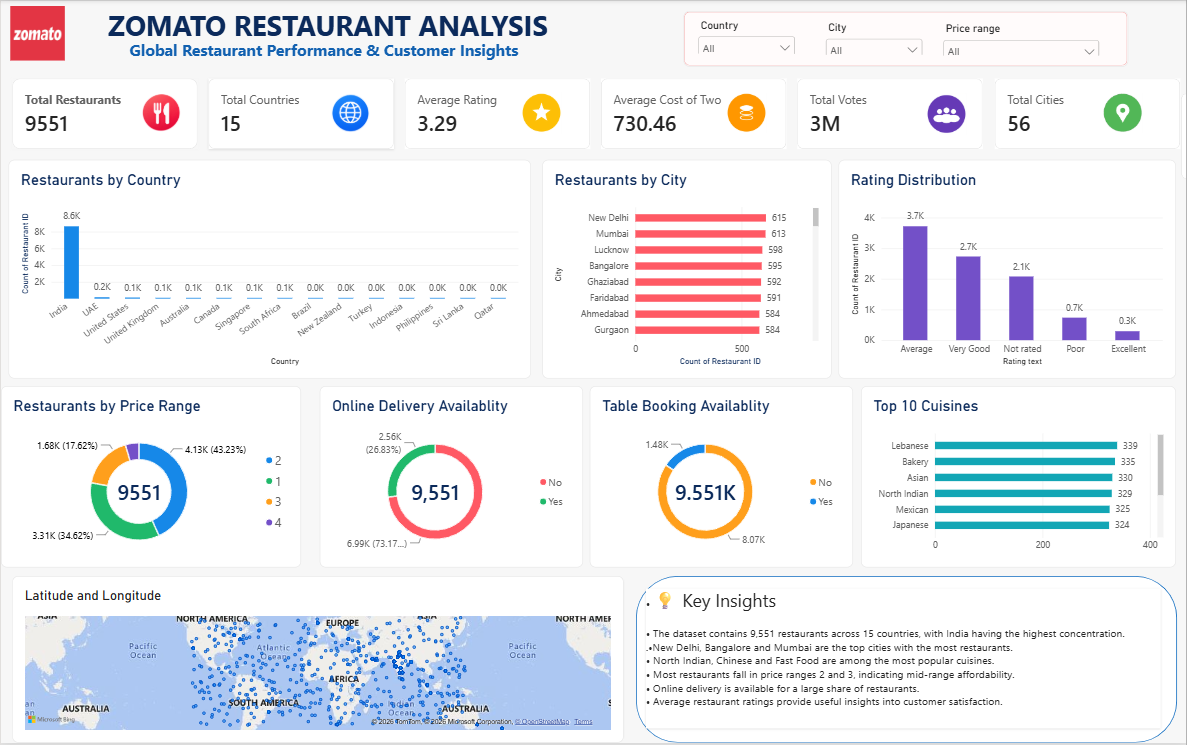

What the dashboard file says about the page in this screenshot:
{"tool":"powerbi","page":{"name":"zomato_restauraunt_analysis","canvas":[1600,1000],"ordinal":0},"visuals":[{"type":"textbox","box":[0,6.7,779.1,64.1],"z":0},{"type":"textbox","box":[10,189.5,1297,150],"z":1},{"type":"textbox","box":[66.8,50.6,892.4,42.5],"z":2},{"type":"cardVisual","fields":{"Data":["Zomato_Data.Total Restaurants"]},"box":[15,105,250,95],"z":3},{"type":"cardVisual","fields":{"Data":["Zomato_Data.Total Countries"]},"box":[280,105,250,95],"z":4},{"type":"cardVisual","fields":{"Data":["Zomato_Data.Average Rating"]},"box":[545,105,250,95],"z":5},{"type":"cardVisual","fields":{"Data":["Zomato_Data.Average Cost of Two"]},"box":[810,105,250,95],"z":6},{"type":"cardVisual","fields":{"Data":["Zomato_Data.Total Votes"]},"box":[1075,105,250,95],"z":7},{"type":"cardVisual","fields":{"Data":["Zomato_Data.Total Cities"]},"box":[1592.6,125.5,218.6,115.3],"z":8},{"type":"clusteredColumnChart","title":"Restaurants by Country","fields":{"Category":["Zomato_Data.Country"],"Y":["CountNonNull(Zomato_Data.Restaurant ID)"]},"box":[10.1,214.2,705,295],"z":9},{"type":"clusteredBarChart","title":"Restaurants by City","fields":{"Category":["Zomato_Data.City"],"Y":["CountNonNull(Zomato_Data.Restaurant ID)"]},"box":[730,215,390,295],"z":10},{"type":"clusteredColumnChart","title":"Rating Distribution","fields":{"Category":["Zomato_Data.Rating text"],"Y":["CountNonNull(Zomato_Data.Restaurant ID)"]},"box":[1130,215,455,295],"z":11},{"type":"donutChart","title":"Restaurants by Price Range","fields":{"Category":["Zomato_Data.Price range"],"Y":["CountNonNull(Zomato_Data.Restaurant ID)"]},"box":[0,519.4,404.7,244.5],"z":12},{"type":"donutChart","title":"Online Delivery Availablity","fields":{"Category":["Zomato_Data.Has Online delivery"],"Y":["CountNonNull(Zomato_Data.Restaurant ID)"]},"box":[430,520,355,245],"z":13},{"type":"donutChart","title":"Table Booking Availablity","fields":{"Category":["Zomato_Data.Has Table booking"],"Y":["CountNonNull(Zomato_Data.Restaurant ID)"]},"box":[795,520,355,245],"z":14},{"type":"clusteredBarChart","title":"Top 10 Cuisines","fields":{"Category":["Zomato_Data.Cuisines"],"Y":["CountNonNull(Zomato_Data.Restaurant ID)"]},"box":[1160,520,425,245],"z":15},{"type":"image","box":[10.1,6.7,78.9,73.8],"z":16},{"type":"shape","box":[920.7,13.5,600,75],"z":18},{"type":"slicer","fields":{"Values":["Zomato_Data.Country"]},"box":[935.9,23.6,140,47.2],"z":19},{"type":"slicer","fields":{"Values":["Zomato_Data.City"]},"box":[1107.9,27,140,45.5],"z":20},{"type":"slicer","fields":{"Values":["Zomato_Data.Price range"]},"box":[1266.4,28.7,220,45],"z":21},{"type":"cardVisual","fields":{"Data":["Zomato_Data.Total Cities"]},"box":[1340,105,250,95],"z":22},{"type":"map","fields":{"X":["Zomato_Data.Longitude"],"Y":["Zomato_Data.Latitude"]},"box":[15,775,825,225],"z":23},{"type":"shape","box":[856.7,775.7,730,225],"z":27},{"type":"textbox","box":[870.2,792.6,694.8,188.9],"z":28},{"type":"image","box":[188.9,123.1,55,55],"z":29},{"type":"image","box":[443.5,123.1,55.6,55.6],"z":30},{"type":"image","box":[701.5,123.1,55.6,55],"z":31},{"type":"image","box":[1485.7,123.1,55,55],"z":32},{"type":"image","box":[1247.9,124.8,55,55],"z":33},{"type":"image","box":[978.1,123.1,55,55.6],"z":34}]}

Visuals, with their boxes in screenshot pixels (x1, y1, x2, y2), scaled from the page's 1600x1000 canvas onto the 1187x745 screenshot:
textbox: pyautogui.locateOnScreen(0, 5, 578, 53)
textbox: pyautogui.locateOnScreen(7, 141, 970, 253)
textbox: pyautogui.locateOnScreen(50, 38, 712, 69)
cardVisual - Zomato_Data.Total Restaurants: pyautogui.locateOnScreen(11, 78, 197, 149)
cardVisual - Zomato_Data.Total Countries: pyautogui.locateOnScreen(208, 78, 393, 149)
cardVisual - Zomato_Data.Average Rating: pyautogui.locateOnScreen(404, 78, 590, 149)
cardVisual - Zomato_Data.Average Cost of Two: pyautogui.locateOnScreen(601, 78, 786, 149)
cardVisual - Zomato_Data.Total Votes: pyautogui.locateOnScreen(798, 78, 983, 149)
cardVisual - Zomato_Data.Total Cities: pyautogui.locateOnScreen(1182, 93, 1186, 179)
"Restaurants by Country" clusteredColumnChart: pyautogui.locateOnScreen(7, 160, 531, 379)
"Restaurants by City" clusteredBarChart: pyautogui.locateOnScreen(542, 160, 831, 380)
"Rating Distribution" clusteredColumnChart: pyautogui.locateOnScreen(838, 160, 1176, 380)
"Restaurants by Price Range" donutChart: pyautogui.locateOnScreen(0, 387, 300, 569)
"Online Delivery Availablity" donutChart: pyautogui.locateOnScreen(319, 387, 582, 570)
"Table Booking Availablity" donutChart: pyautogui.locateOnScreen(590, 387, 853, 570)
"Top 10 Cuisines" clusteredBarChart: pyautogui.locateOnScreen(861, 387, 1176, 570)
image: pyautogui.locateOnScreen(7, 5, 66, 60)
shape: pyautogui.locateOnScreen(683, 10, 1128, 66)
slicer - Zomato_Data.Country: pyautogui.locateOnScreen(694, 18, 798, 53)
slicer - Zomato_Data.City: pyautogui.locateOnScreen(822, 20, 926, 54)
slicer - Zomato_Data.Price range: pyautogui.locateOnScreen(940, 21, 1103, 55)
cardVisual - Zomato_Data.Total Cities: pyautogui.locateOnScreen(994, 78, 1180, 149)
map - Zomato_Data.Longitude x Zomato_Data.Latitude: pyautogui.locateOnScreen(11, 577, 623, 744)
shape: pyautogui.locateOnScreen(636, 578, 1177, 744)
textbox: pyautogui.locateOnScreen(646, 590, 1161, 731)
image: pyautogui.locateOnScreen(140, 92, 181, 133)
image: pyautogui.locateOnScreen(329, 92, 370, 133)
image: pyautogui.locateOnScreen(520, 92, 562, 133)
image: pyautogui.locateOnScreen(1102, 92, 1143, 133)
image: pyautogui.locateOnScreen(926, 93, 967, 134)
image: pyautogui.locateOnScreen(726, 92, 766, 133)
